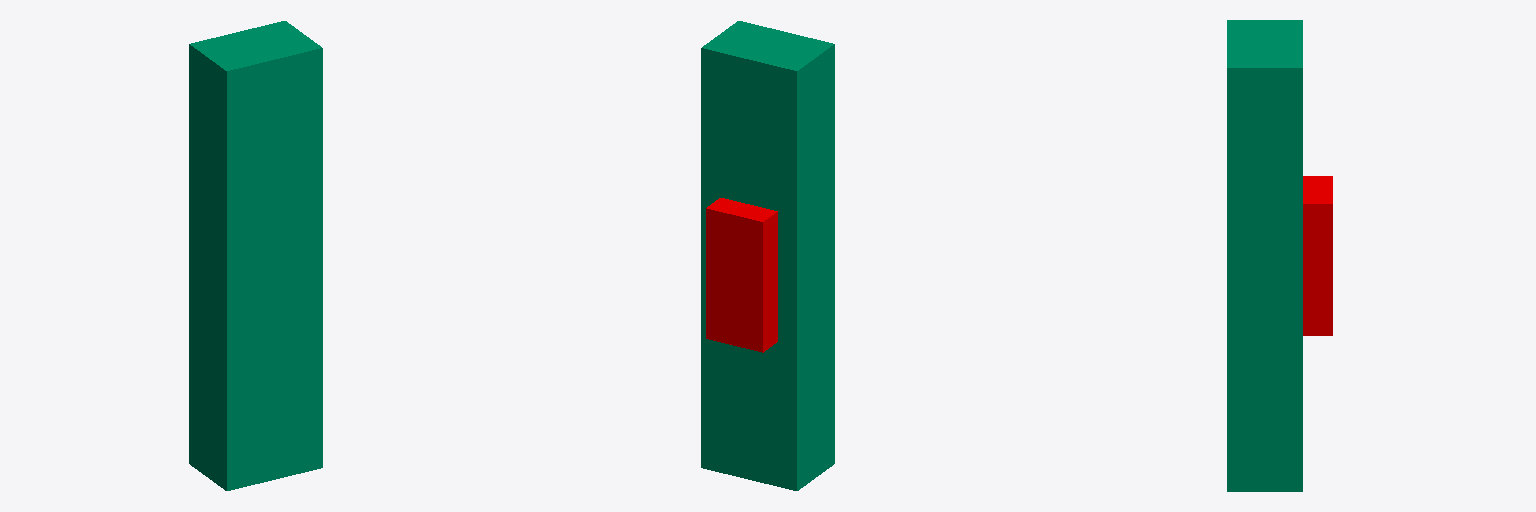
The robot description file, URDF, robot "knife":
<?xml version='1.0' encoding='utf-8'?>
<robot name="knife">
  <link name="base" /><joint name="joint_0" type="fixed"><origin xyz="0 0 0" rpy="0 0 0" /><parent link="base" /><child link="link_0" /></joint><link name="link_1">
    <visual name="link_1">
      <origin xyz="0 0.011280 0" rpy="0 0 0" />
      <geometry>
        <box size="0.014284525294213984 0.006363852971361842 0.0311173289796098" /></geometry>
    <material name="red"><color rgba="1 0 0 1" /></material></visual>
    <collision>
      <origin xyz="0 0.011280 0" rpy="0 0 0" />
      <geometry>
        <box size="0.014284525294213984 0.006363852971361842 0.0311173289796098" /></geometry>
    </collision>
    </link>
  <joint name="joint_1" type="prismatic">
    <origin xyz="0 0 0" />
    <axis xyz="0 0 1" />
    <child link="link_1" />
    <parent link="link_0" />
    <limit lower="-0.017829" upper="0.032171" effort="100.0" velocity="1.0" />
  </joint>
  <link name="link_0">
    <visual name="link_0">
      <origin xyz="0 0 0" />
      <geometry>
        <box size="0.023975173816077455 0.016195756116611133 0.1001047834591953" /></geometry>
    </visual>
    <collision>
      <origin xyz="0 0 0" />
      <geometry>
        <box size="0.023975173816077455 0.016195756116611133 0.1001047834591953" /></geometry>
    </collision>
    </link>
</robot>

--- Facts derived from the render (not from the file) ---
The picture shows the robot from 3 angles, left to right: view 1: azimuth 30°, elevation 25°; view 2: azimuth 150°, elevation 25°; view 3: azimuth 270°, elevation 25°; orthographic projection.
Robot: knife — 3 links, 2 joints (1 prismatic, 1 fixed); root link base; default pose: every joint at zero.
Visible links, largest first — view 1: link_0; view 2: link_0, link_1; view 3: link_0, link_1.
Link boxes in pixels (box(x1,y1,x2,y2)): link_0: box(189, 21, 322, 490); link_0: box(701, 21, 834, 490); link_1: box(706, 198, 777, 352); link_0: box(1227, 20, 1302, 491); link_1: box(1303, 176, 1332, 335).
Bounding box of the posed robot: 0.024 × 0.0226 × 0.1001 m (x, y, z).
Geometry: primitives only (box / cylinder / sphere), no mesh files.
